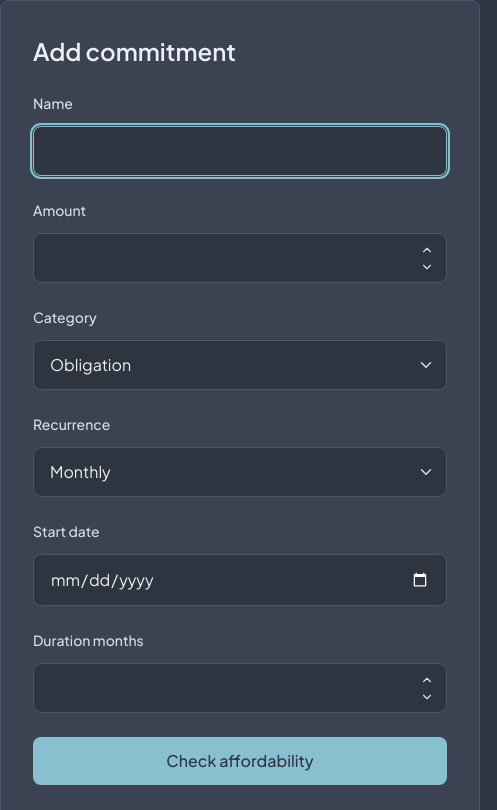
Scenario: CommitmentForm › shows due date for one-time commitments and hides recurring fields
Select "One time" in the dropdown labelled "Recurrence": {"x": 240, "y": 472} [33,447,447,497]
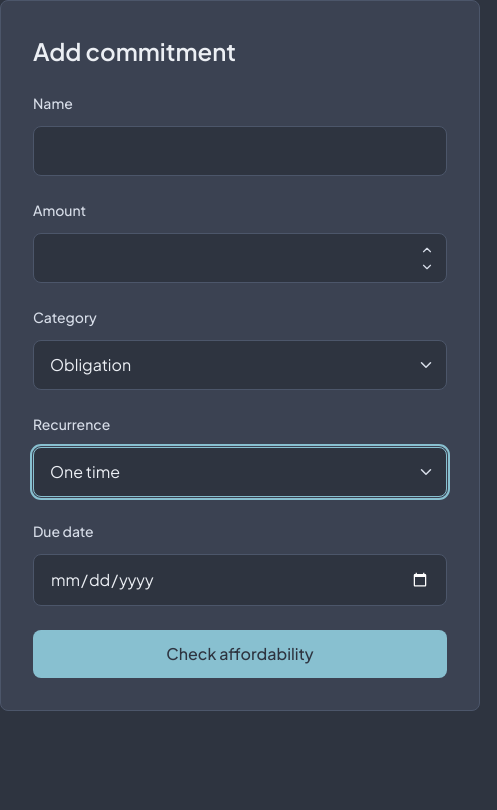
Expected: the date field labelled "Due date" is shown, [33,554,447,606]
Now the label labelled "Start date" is gone
Now the label labelled "Duration months" is gone
